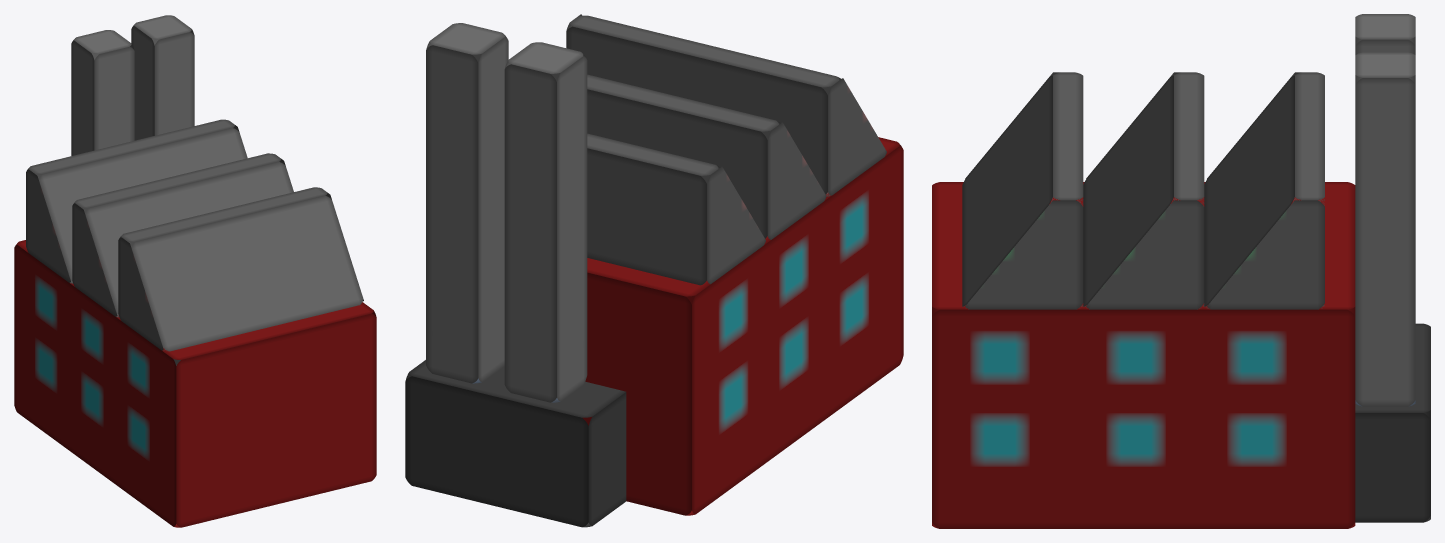
The model's file is Factory.fbx.
The picture shows the model from 3 angles, left to right: view 1: azimuth 30°, elevation 25°; view 2: azimuth 150°, elevation 25°; view 3: azimuth 270°, elevation 25°; orthographic projection. The views are drawn at different scales.
Visible parts, largest first — view 1: cuboid, cuboid_6, cuboid_4, cuboid_5, cuboid_2, cuboid_1; view 2: cuboid, cuboid_2, cuboid_1, cuboid_3, cuboid_6, cuboid_4, cuboid_5; view 3: cuboid, cuboid_5, cuboid_6, cuboid_4, cuboid_1, cuboid_3, cuboid_2.
Part boxes in pixels (box(x1,y1,x2,y2)): cuboid: box(14, 240, 376, 527); cuboid_6: box(118, 187, 363, 351); cuboid_4: box(26, 119, 247, 283); cuboid_5: box(72, 153, 293, 317); cuboid_2: box(71, 30, 134, 155); cuboid_1: box(131, 15, 194, 140); cuboid: box(582, 137, 903, 515); cuboid_2: box(504, 42, 587, 402); cuboid_1: box(426, 23, 508, 383); cuboid_3: box(405, 360, 626, 527); cuboid_6: box(566, 14, 886, 196); cuboid_4: box(587, 133, 765, 285); cuboid_5: box(587, 74, 826, 239); cuboid: box(932, 182, 1355, 528); cuboid_5: box(1083, 72, 1204, 309); cuboid_6: box(962, 72, 1083, 309); cuboid_4: box(1204, 72, 1324, 309); cuboid_1: box(1355, 52, 1415, 406); cuboid_3: box(1355, 323, 1430, 522); cuboid_2: box(1355, 14, 1415, 54).
Size of the model in its own units: 62.5 by 100 by 103.
1 material, 1 textured.
